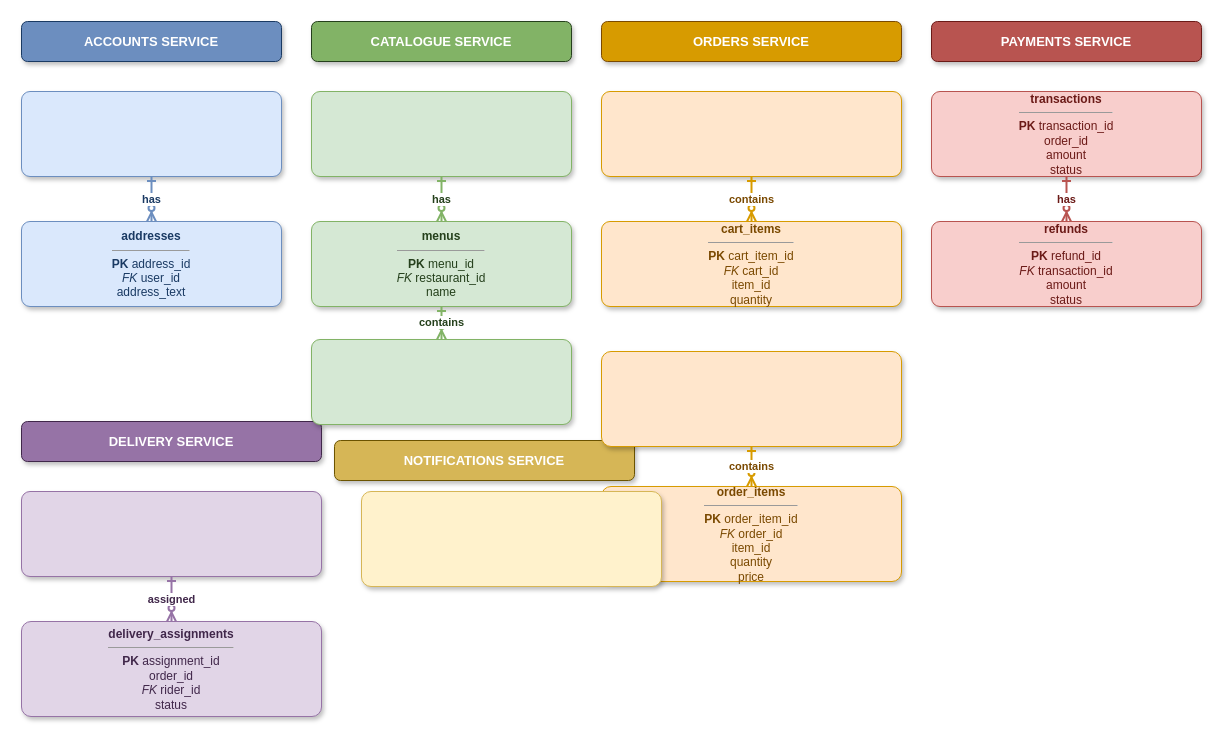
Some shapes in this 1225 by 741 pixel diagram are drawn without their labels. The shapes that lost their labels are listed below. From the top down, each one's centre as x and y in pixels, then its label:
(x=152, y=135): users PK user_id name email
(x=442, y=135): restaurants PK restaurant_id name
(x=752, y=135): carts PK cart_id user_id status
(x=442, y=383): menu_items PK item_id FK menu_id name price
(x=752, y=400): orders PK order_id user_id address_id status total
(x=172, y=535): riders PK rider_id name
(x=512, y=540): notification_log PK notification_id user_id message status
